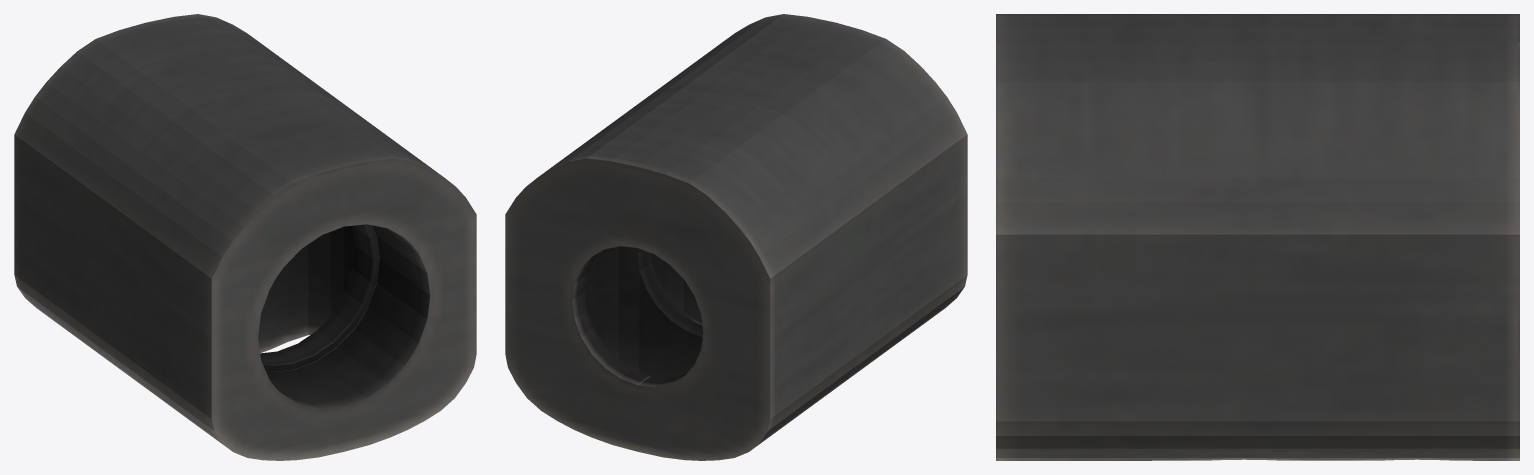
3 renders of one model, left to right at view 1: azimuth 30°, elevation 25°; view 2: azimuth 150°, elevation 25°; view 3: azimuth 270°, elevation 25°, orthographic. The views are drawn at different scales.
Visible parts, largest first — view 1: TW_5c6beec32e221601da3578f2_PZ_Import; view 2: TW_5c6beec32e221601da3578f2_PZ_Import; view 3: TW_5c6beec32e221601da3578f2_PZ_Import.
Part boxes in pixels (box(x1,y1,x2,y2)): TW_5c6beec32e221601da3578f2_PZ_Import: box(14, 14, 476, 460); TW_5c6beec32e221601da3578f2_PZ_Import: box(505, 14, 967, 460); TW_5c6beec32e221601da3578f2_PZ_Import: box(996, 14, 1519, 460).
Bounding box in the file's own units: 0.0111 × 0.0143 × 0.0114.
1 material, 1 textured.
